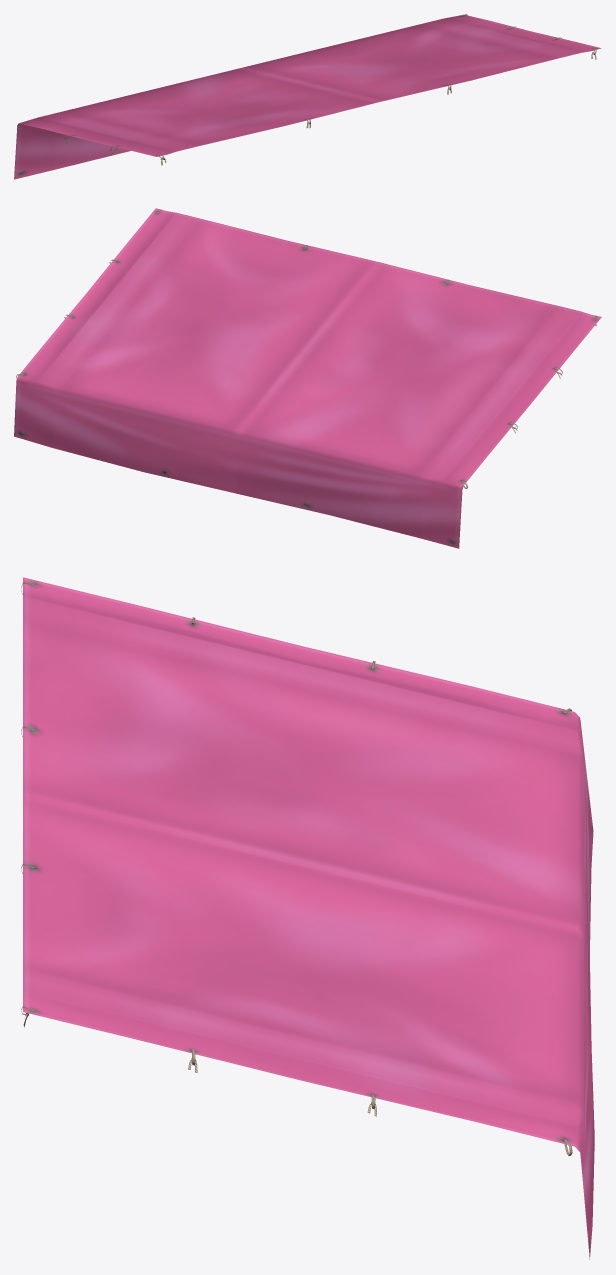
File: jsf_Ceiling_s04_c06_t01.fbx
3 renders of one model, top to bottom at view 1: azimuth 30°, elevation 25°; view 2: azimuth 150°, elevation 25°; view 3: azimuth 270°, elevation 25°, orthographic. The views are drawn at different scales.
Parts seen in each view (by area): view 1: jsf_Ceiling_s04_c06_t01; view 2: jsf_Ceiling_s04_c06_t01; view 3: jsf_Ceiling_s04_c06_t01.
Part boxes in pixels (bbox=[...]): jsf_Ceiling_s04_c06_t01: bbox=[14, 14, 601, 179]; jsf_Ceiling_s04_c06_t01: bbox=[14, 208, 601, 548]; jsf_Ceiling_s04_c06_t01: bbox=[21, 577, 594, 1259].
Bounding box in the file's own units: 394 × 106 × 216.
